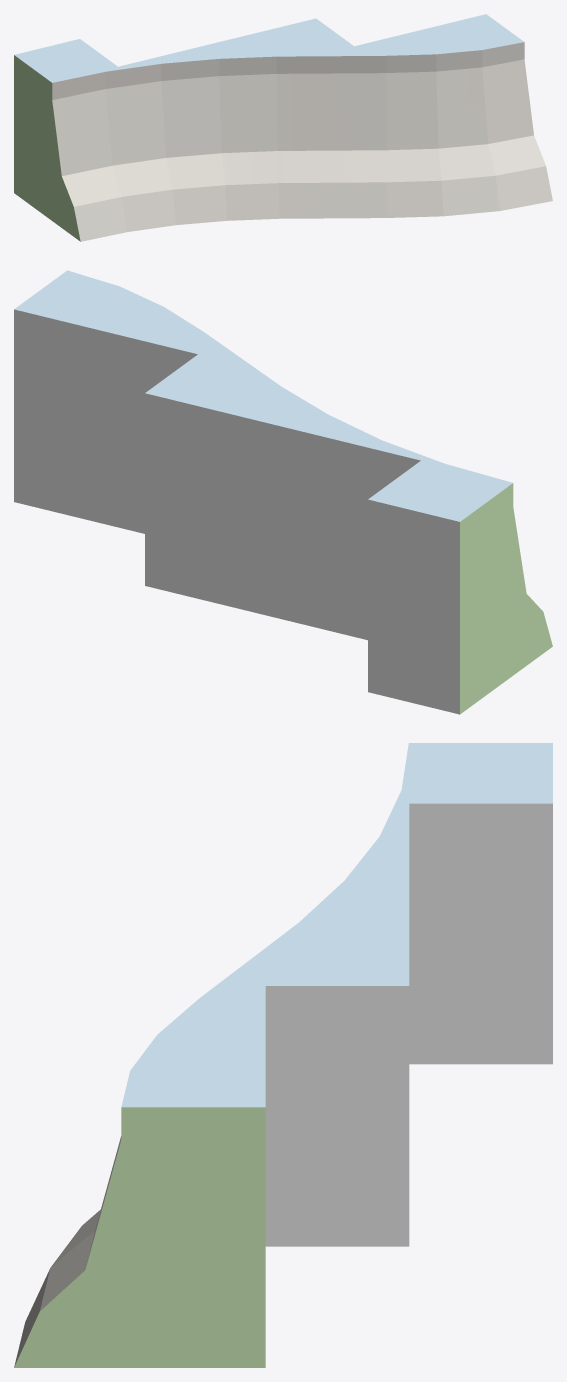
Rendered from Wall_Esse_4x6_Base.glb.
3 views of the same model, one above another, from view 1: azimuth 30°, elevation 25°; view 2: azimuth 150°, elevation 25°; view 3: azimuth 270°, elevation 25° (orthographic). The views are drawn at different scales.
Visible parts, largest first — view 1: Wall_Esse_4x6_Base; view 2: Wall_Esse_4x6_Base; view 3: Wall_Esse_4x6_Base.
Boxes of the visible parts, x1,y1,x2,y2 form: Wall_Esse_4x6_Base: [14, 14, 552, 241]; Wall_Esse_4x6_Base: [14, 270, 552, 714]; Wall_Esse_4x6_Base: [14, 743, 552, 1367].
Size of the model in its own units: 600 by 200 by 375.
